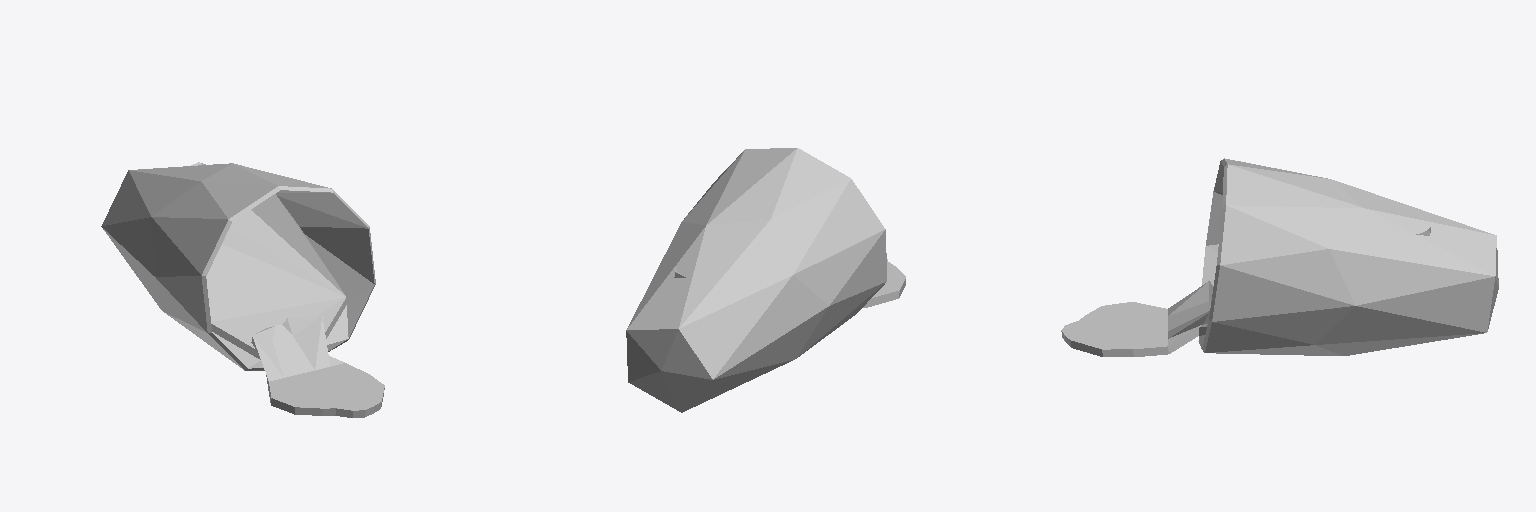
Rendered from glass-type-04.obj.
The picture shows the model from 3 angles: view 1: azimuth 30°, elevation 25°; view 2: azimuth 150°, elevation 25°; view 3: azimuth 270°, elevation 25°; orthographic projection.
Visible parts, largest first — view 1: glass-type-04; view 2: glass-type-04; view 3: glass-type-04.
Boxes of the visible parts, <box> form: glass-type-04: <box>101,162,384,417</box>; glass-type-04: <box>626,148,905,412</box>; glass-type-04: <box>1061,158,1498,356</box>.
Size of the model in its own units: 0.0533 by 0.0532 by 0.1173.